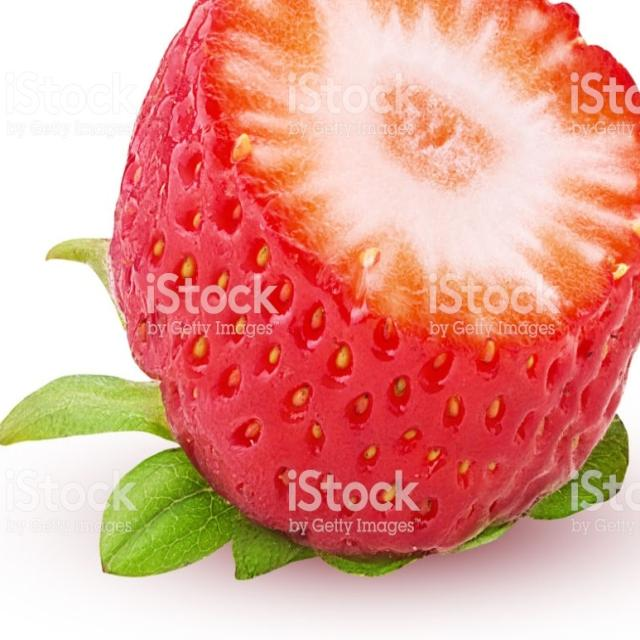strawberry: (0, 0, 640, 587)
